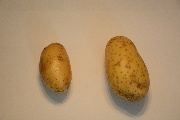potato: (103, 35, 150, 104), (38, 40, 71, 94)
